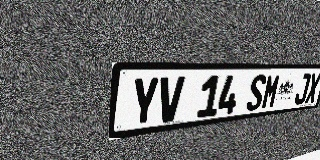1: (197, 75, 222, 118)
4: (216, 75, 240, 115)
J: (293, 73, 312, 105)
M: (260, 74, 281, 110)
S: (245, 74, 267, 112)
V: (156, 76, 185, 123)
X: (304, 73, 320, 104)
Y: (129, 77, 160, 127)
